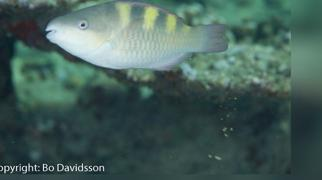Scaridae -Parrotfishes-: (41, 0, 230, 75)
